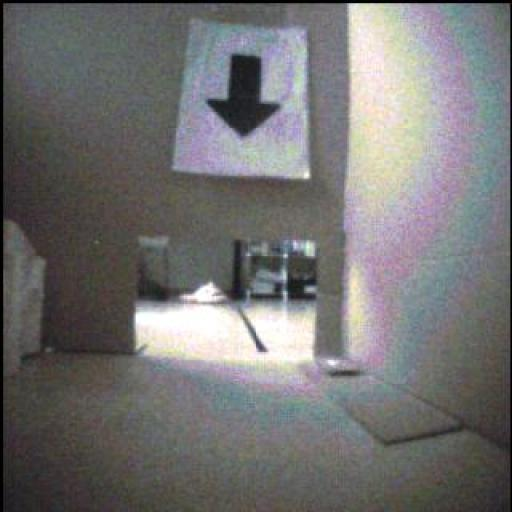arrow: (209, 55, 281, 137)
